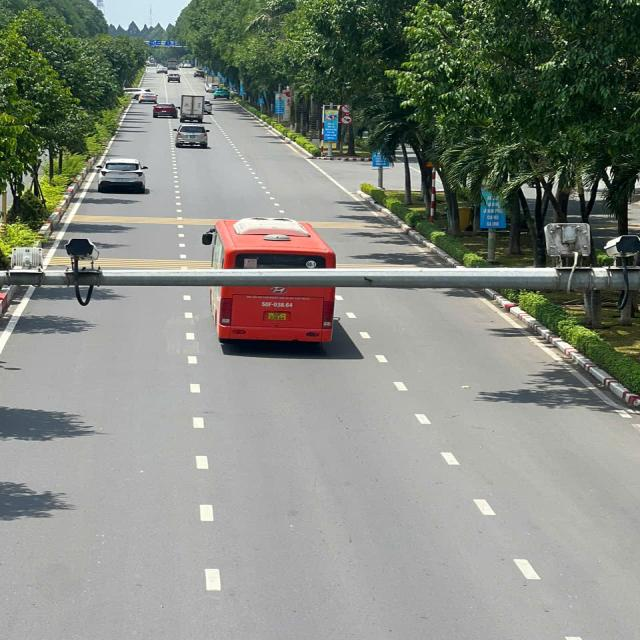ben: (177, 92, 207, 124)
car: (199, 218, 340, 347), (92, 154, 152, 195), (172, 122, 212, 150), (150, 99, 181, 120), (210, 86, 233, 102), (136, 89, 160, 104), (204, 79, 223, 93), (166, 70, 183, 84)
